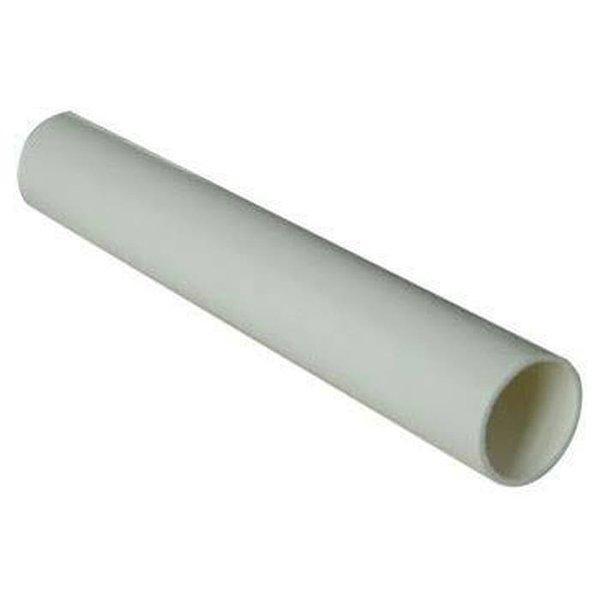PVC: (19, 110, 584, 488)
